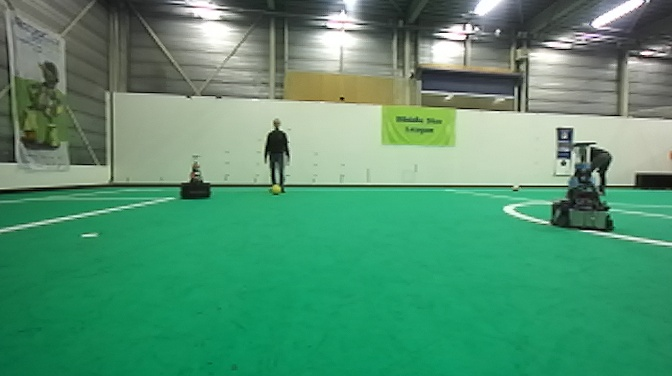ball: (269, 181, 287, 198), (510, 182, 522, 194)
human: (261, 114, 293, 193), (572, 141, 613, 190)
robot: (549, 139, 616, 232), (177, 153, 215, 201)
